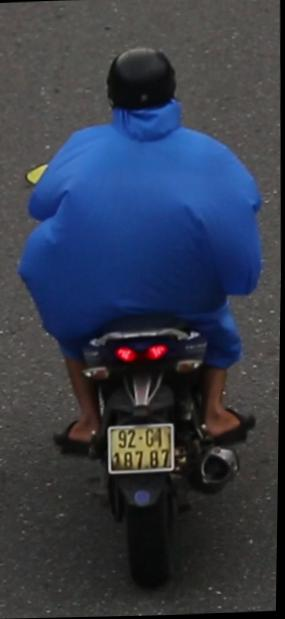LP: (96, 414, 182, 488)
helmet: (101, 43, 177, 132)
